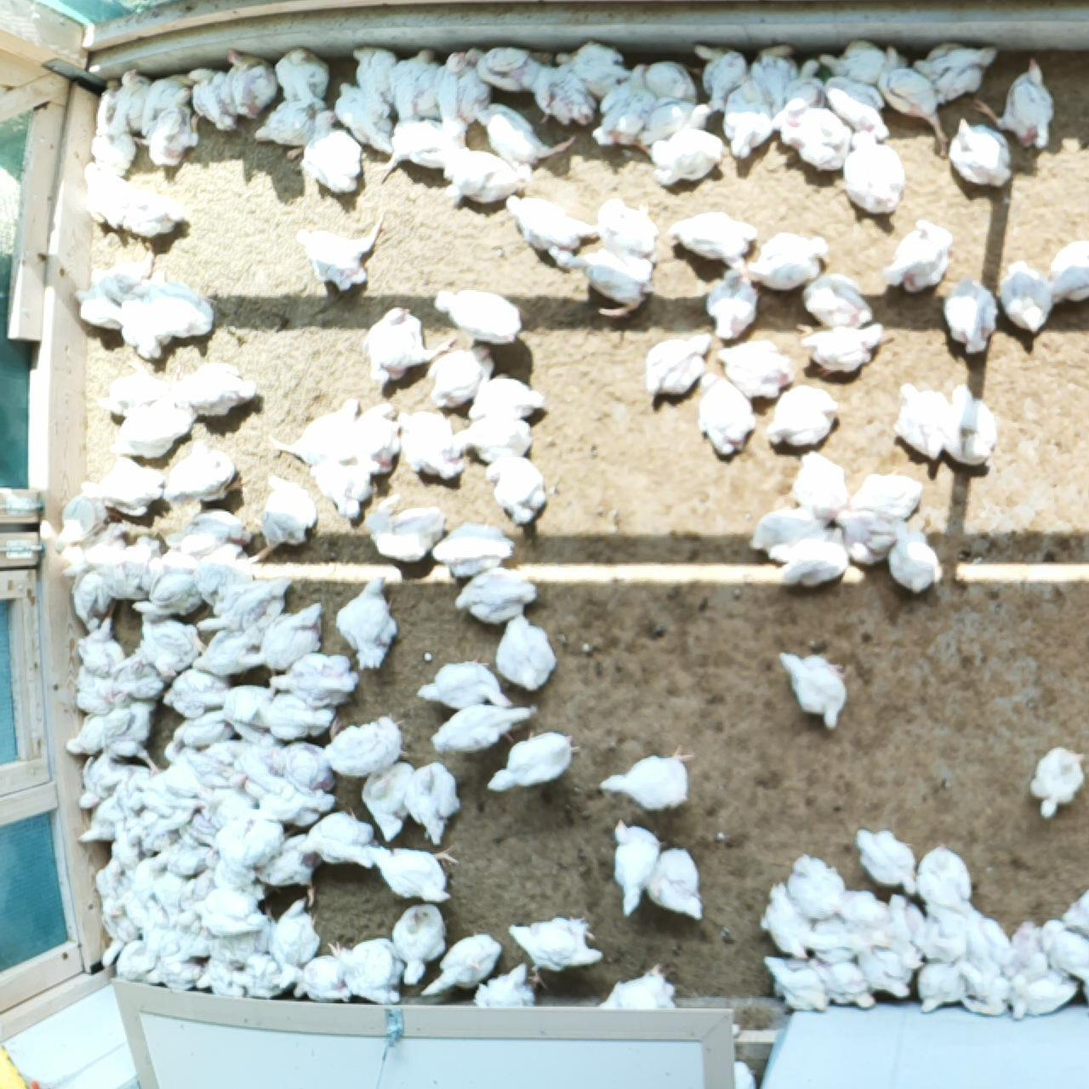chicken: (871, 43, 955, 162), (293, 206, 389, 297), (592, 734, 701, 813), (63, 694, 163, 777), (969, 58, 1058, 151), (264, 393, 365, 468), (566, 244, 658, 326), (503, 906, 612, 975), (358, 304, 454, 382), (194, 569, 297, 641), (775, 643, 854, 736), (71, 252, 155, 339), (472, 96, 579, 164), (876, 214, 958, 302), (498, 188, 598, 260), (294, 103, 368, 199), (429, 280, 533, 347), (375, 116, 474, 186), (242, 467, 314, 563), (364, 838, 465, 906), (487, 726, 583, 797), (587, 61, 654, 162), (236, 602, 327, 675), (335, 567, 399, 669), (319, 707, 411, 777), (418, 927, 505, 1001), (424, 703, 539, 758), (365, 493, 453, 564), (765, 524, 854, 594), (77, 452, 165, 522), (172, 353, 263, 420), (764, 378, 845, 452), (105, 399, 200, 462), (914, 37, 999, 107), (639, 329, 716, 406), (445, 565, 543, 625), (842, 128, 908, 217), (748, 227, 836, 293), (663, 207, 758, 268), (693, 369, 758, 458), (849, 822, 922, 901), (416, 651, 512, 711), (147, 265, 219, 345), (263, 648, 360, 707), (267, 894, 324, 994), (399, 758, 463, 847), (162, 435, 241, 507), (390, 900, 450, 994), (428, 517, 517, 579), (795, 318, 890, 376), (639, 843, 707, 924), (493, 610, 558, 694), (949, 113, 1019, 191), (608, 817, 662, 917), (940, 380, 1000, 468), (647, 124, 727, 190), (1027, 736, 1089, 821), (329, 935, 403, 1006), (250, 833, 324, 904), (796, 267, 876, 332), (196, 540, 277, 604), (394, 408, 463, 483), (299, 804, 382, 866), (482, 451, 549, 527), (938, 275, 1000, 357), (780, 104, 852, 173), (424, 346, 498, 413), (595, 955, 683, 1011), (890, 376, 947, 462), (720, 75, 777, 161), (431, 41, 493, 120), (307, 455, 379, 523), (712, 336, 793, 396), (887, 516, 947, 597), (591, 191, 660, 261), (808, 949, 881, 1015), (441, 141, 514, 207), (116, 270, 168, 362), (756, 951, 828, 1017), (998, 257, 1058, 336), (785, 445, 849, 519), (222, 41, 279, 124), (754, 875, 808, 962), (209, 811, 282, 875), (449, 411, 536, 464), (704, 257, 758, 342), (384, 43, 443, 120), (144, 89, 200, 170), (131, 617, 204, 679), (360, 759, 413, 844), (555, 31, 628, 92), (821, 71, 888, 137), (850, 941, 918, 1006), (269, 41, 334, 109), (122, 187, 191, 251), (784, 848, 845, 920), (79, 160, 136, 237), (844, 471, 928, 523), (632, 96, 711, 151), (334, 77, 391, 153), (243, 775, 335, 822), (878, 890, 930, 973), (815, 29, 891, 85), (1031, 914, 1089, 986), (464, 372, 547, 422), (526, 66, 599, 122), (93, 361, 170, 414), (74, 756, 146, 812), (751, 501, 825, 555), (915, 835, 968, 910), (256, 690, 335, 740), (166, 737, 243, 788), (220, 675, 279, 740), (690, 36, 748, 102), (265, 739, 336, 791), (352, 397, 401, 472), (460, 46, 546, 88), (255, 103, 316, 162), (187, 65, 239, 134), (831, 507, 895, 563), (951, 906, 1011, 965), (797, 918, 890, 956), (286, 950, 353, 1002), (472, 959, 544, 1007), (210, 917, 277, 966), (81, 126, 147, 175), (160, 665, 230, 711), (132, 572, 202, 618), (94, 896, 140, 965), (164, 511, 243, 551), (956, 959, 1011, 1016), (751, 40, 795, 111), (189, 628, 253, 676), (910, 958, 961, 1018), (61, 529, 125, 576), (74, 613, 126, 670), (50, 494, 98, 554), (1011, 970, 1064, 1024), (190, 887, 263, 926), (111, 68, 152, 137), (1052, 234, 1089, 310), (1002, 917, 1046, 980), (143, 797, 208, 839), (644, 52, 695, 105), (351, 41, 397, 97), (786, 47, 828, 108), (68, 564, 109, 625), (179, 869, 218, 928), (77, 801, 122, 852), (229, 953, 282, 995), (122, 534, 165, 583), (921, 905, 961, 957), (170, 715, 228, 750), (156, 837, 215, 871), (142, 954, 200, 988), (162, 928, 215, 965), (115, 653, 164, 693), (199, 787, 253, 823), (234, 735, 280, 776), (194, 958, 242, 996), (128, 849, 169, 893), (96, 71, 125, 133), (107, 818, 141, 869), (833, 888, 885, 921), (154, 865, 182, 926), (103, 567, 147, 605), (145, 73, 194, 107), (166, 526, 227, 552), (126, 888, 168, 925), (211, 856, 258, 889), (1059, 883, 1089, 933), (88, 858, 128, 895), (190, 510, 245, 536), (139, 921, 177, 956), (154, 549, 197, 575), (730, 1054, 758, 1089)
